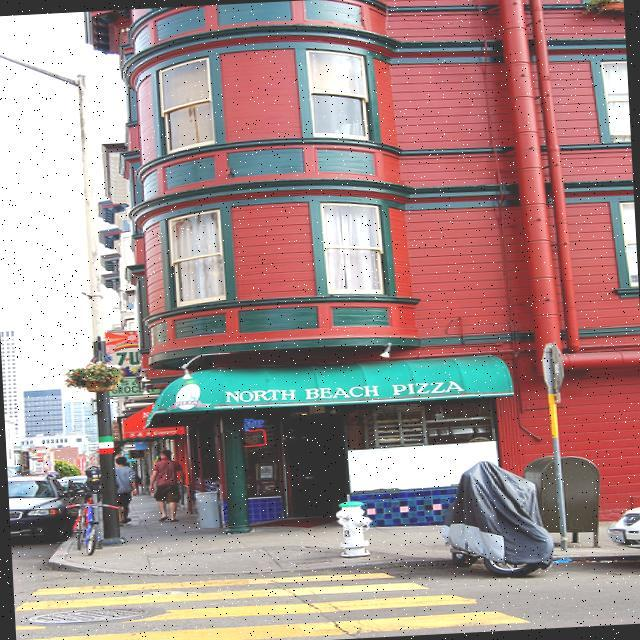fire_hydrant: (336, 501, 372, 556)
